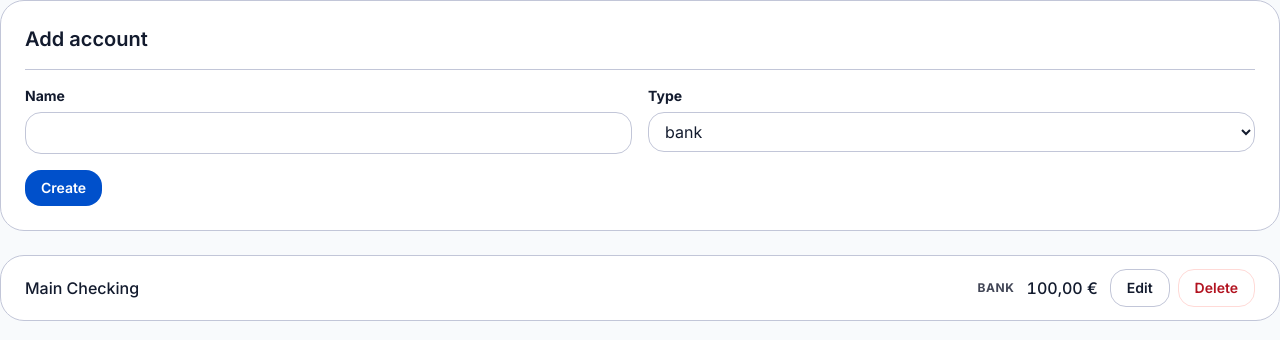
Test: AccountsContainer › edits an existing account
expect the text "Main Checking" is shown: met, box [25,278,139,298]
Click the button "Edit" at point(1140, 288), box [1110,269,1170,307]
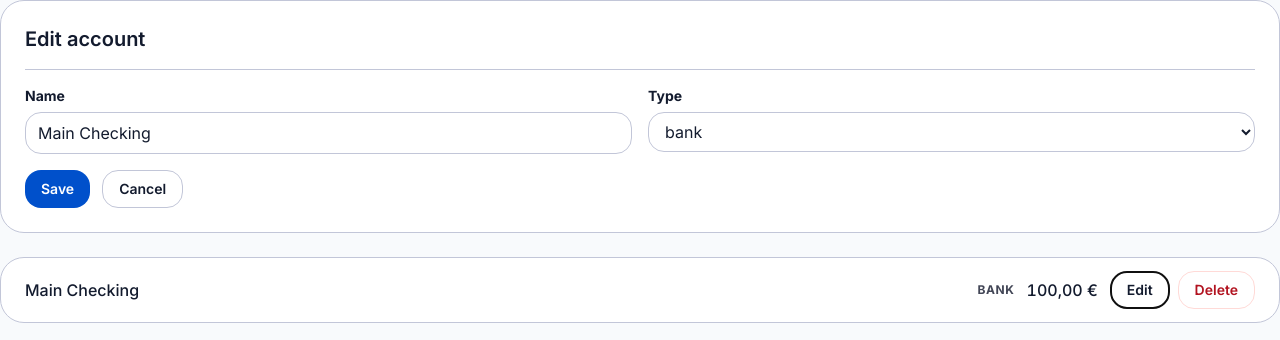
Replace the text in the field labelled "Name" with "Renamed" at point(328, 133), box [25,112,632,154]
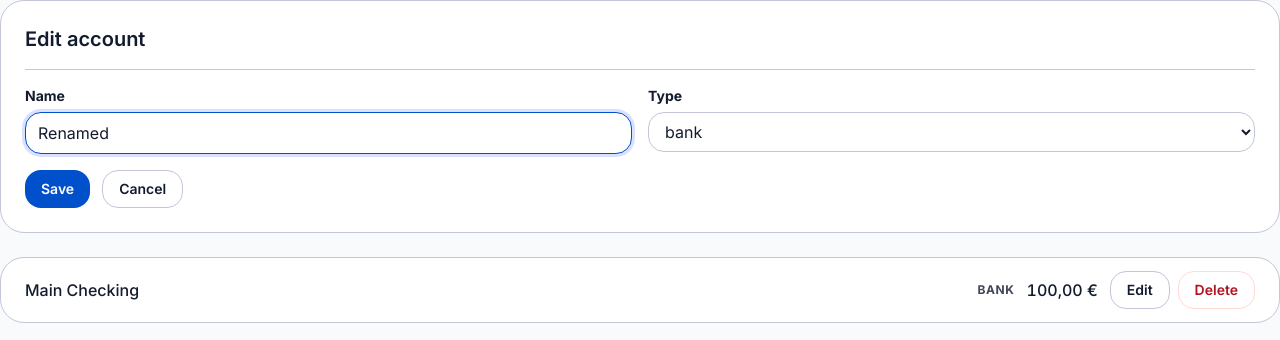
Click the button "Save" at point(58, 189), box [25,170,90,208]
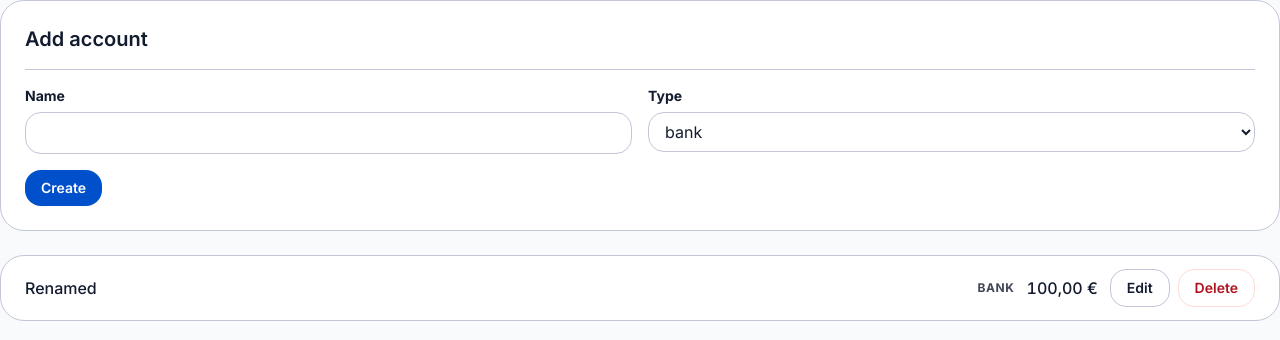
expect the text "Renamed" is shown: met, box [25,278,97,298]
